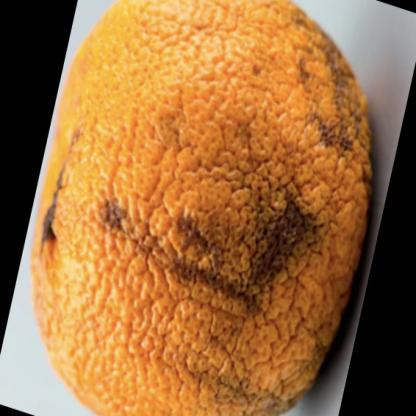rotten: (33, 1, 371, 416)
